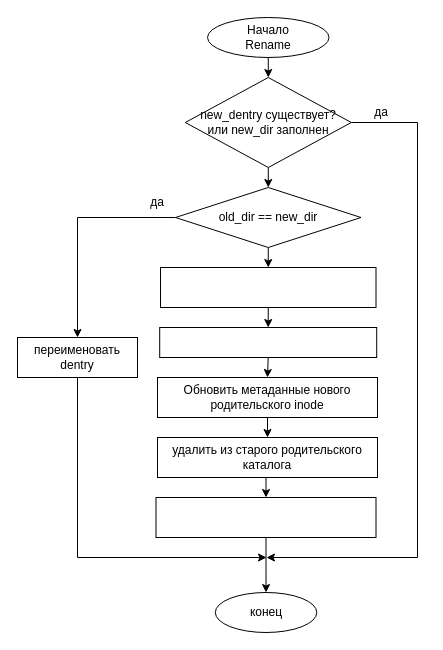
The diagram is 443 pixels wide and 650 high, and some of its shapes have lost their labels. The shapes that lost their labels are listed below. From the top down, each one's box as (x1, y1, x2, y2) in pixels, then its label:
(160, 266, 376, 308): получить позицию переименованного файла в каталоге
(159, 326, 377, 358): вставить в новый родительский каталог
(155, 496, 376, 538): Обновить метаданные старого родительского inode
